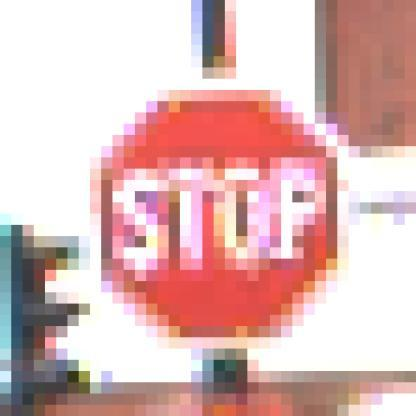Stop: (95, 86, 346, 348)
